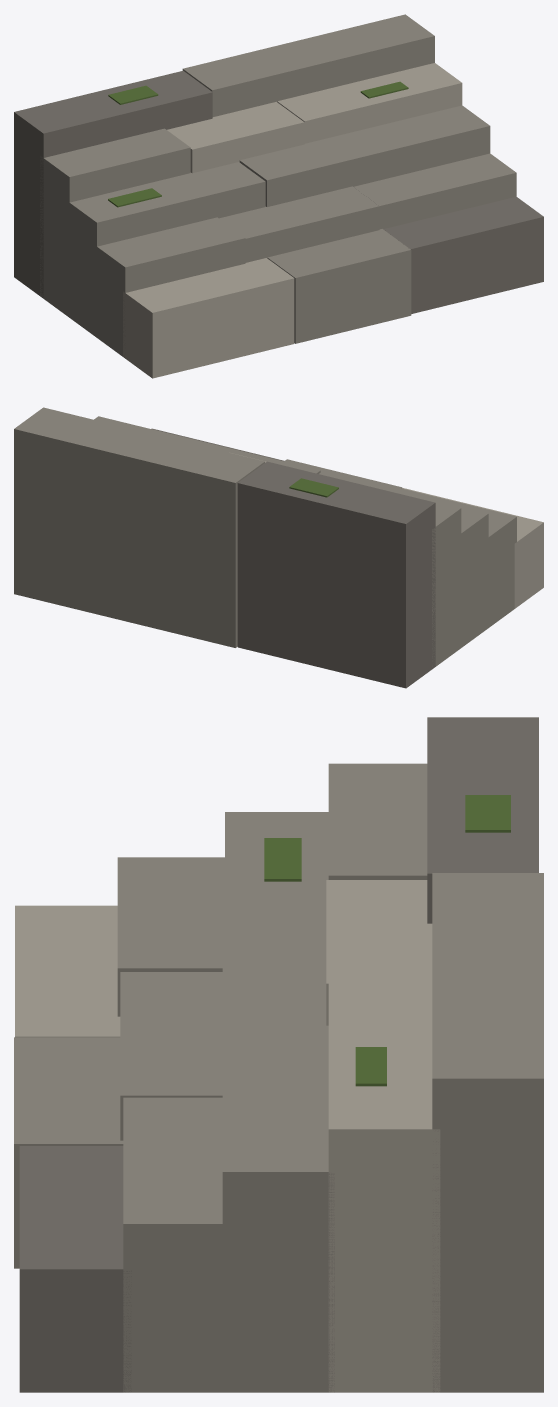
File: stone-steps-5.glb
3 views of the same model, one above another, from view 1: azimuth 30°, elevation 25°; view 2: azimuth 150°, elevation 25°; view 3: azimuth 270°, elevation 25° (orthographic). The views are drawn at different scales.
Parts seen in each view (by area): view 1: steps_steps_5_stone, steps_steps_5_stone_light, steps_steps_5_stone_dark, steps_steps_5_moss; view 2: steps_steps_5_stone, steps_steps_5_stone_dark, steps_steps_5_stone_light, steps_steps_5_moss; view 3: steps_steps_5_stone, steps_steps_5_stone_light, steps_steps_5_stone_dark, steps_steps_5_moss.
Boxes of the visible parts, left/top/right/bottom form: steps_steps_5_stone: left=40, top=14, right=516, bottom=357; steps_steps_5_stone_light: left=123, top=63, right=462, bottom=378; steps_steps_5_stone_dark: left=14, top=71, right=543, bottom=313; steps_steps_5_moss: left=108, top=81, right=408, bottom=207; steps_steps_5_stone: left=14, top=407, right=516, bottom=666; steps_steps_5_stone_dark: left=151, top=428, right=435, bottom=688; steps_steps_5_stone_light: left=229, top=452, right=543, bottom=608; steps_steps_5_moss: left=289, top=478, right=338, bottom=497; steps_steps_5_stone: left=14, top=763, right=543, bottom=1392; steps_steps_5_stone_light: left=15, top=880, right=440, bottom=1392; steps_steps_5_stone_dark: left=19, top=717, right=538, bottom=1392; steps_steps_5_moss: left=264, top=795, right=510, bottom=1086.
Bounding box in the file's own units: 2.99 × 1.21 × 1.85.
